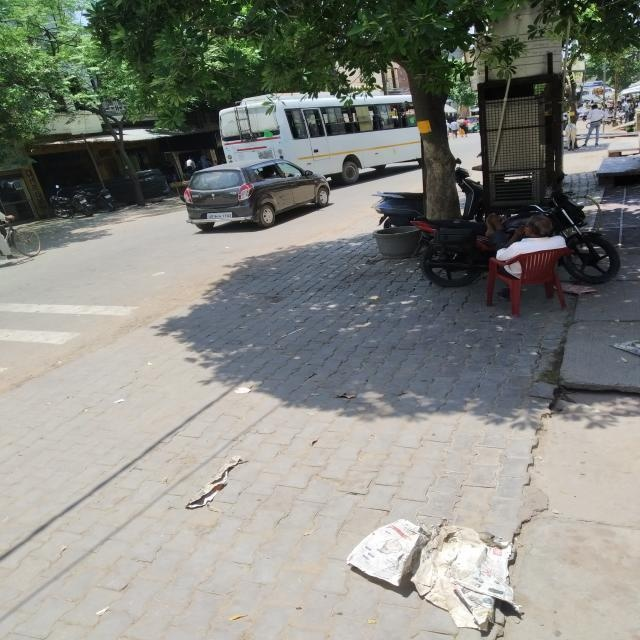Car: (182, 156, 329, 233)
